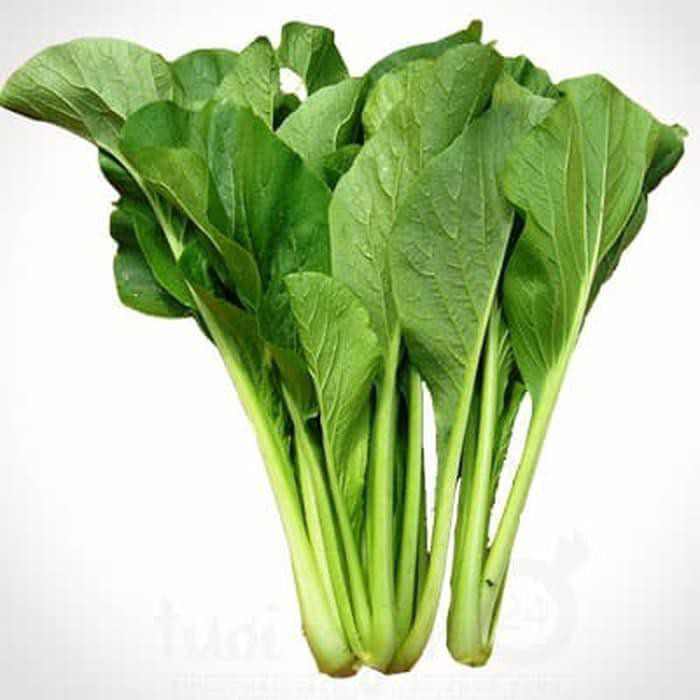Sawi: (5, 31, 696, 700)
